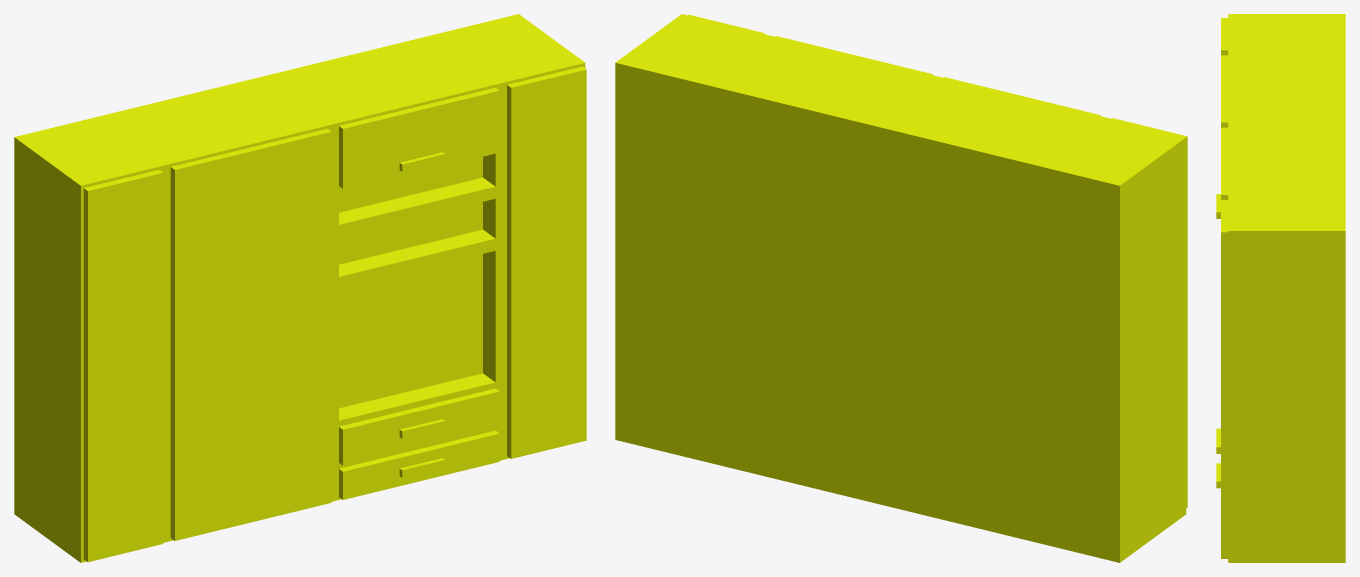
Rendered from Wardrobe1.FBX.
3 renders of one model, left to right at view 1: azimuth 30°, elevation 25°; view 2: azimuth 150°, elevation 25°; view 3: azimuth 270°, elevation 25°, orthographic. The views are drawn at different scales.
Parts seen in each view (by area): view 1: Box015; view 2: Box015; view 3: Box015.
Part boxes in pixels (x1=…): Box015: x1=14, y1=14, x2=586, y2=562; Box015: x1=615, y1=14, x2=1187, y2=562; Box015: x1=1216, y1=14, x2=1345, y2=562.
Bounding box in the file's own units: 5.07 × 3.62 × 1.28.
